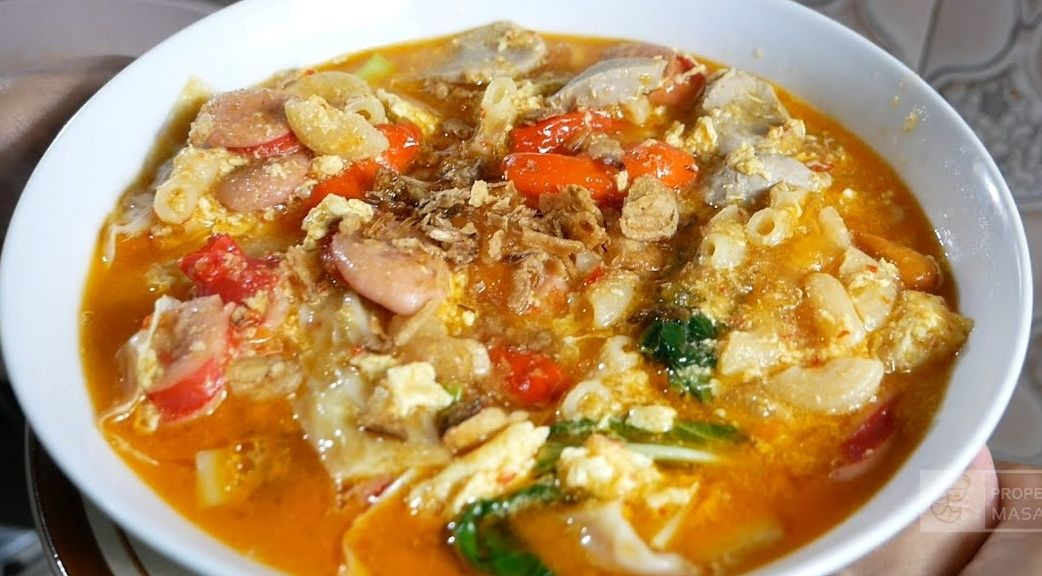seblak: (82, 25, 974, 576)
